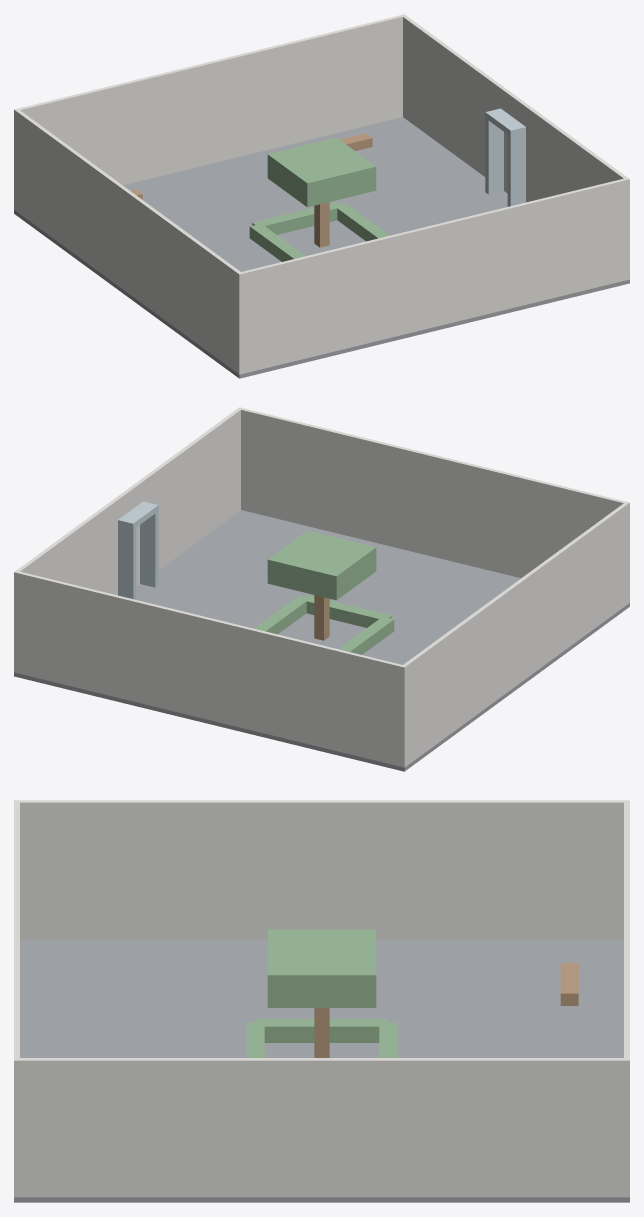
Rendered from atrium.glb.
3 views of the same model, one above another, from view 1: azimuth 30°, elevation 25°; view 2: azimuth 150°, elevation 25°; view 3: azimuth 270°, elevation 25° (orthographic). The views are drawn at different scales.
Visible parts, largest first — view 1: Wall_South, Wall_North, Floor, Wall_West, Wall_East, Tree_Canopy, Arch_East_Right, Arch_East_Left, Planter_N, Planter_W, Planter_E, Tree_Trunk (+1 smaller); view 2: Wall_North, Wall_South, Floor, Wall_West, Wall_East, Tree_Canopy, Arch_East_Left, Arch_East_Right, Planter_S, Planter_W, Planter_E, Tree_Trunk (+1 smaller); view 3: Wall_East, Wall_West, Floor, Tree_Canopy, Planter_W, Wall_North, Wall_South, Bench_1, Tree_Trunk, Planter_N, Planter_S.
Boxes of the visible parts, <box> form: Wall_South: <box>237,177,629,374</box>; Wall_North: <box>14,14,406,210</box>; Floor: <box>14,117,629,378</box>; Wall_West: <box>14,108,243,374</box>; Wall_East: <box>402,14,629,202</box>; Tree_Canopy: <box>267,137,376,207</box>; Arch_East_Right: <box>507,124,525,206</box>; Arch_East_Left: <box>485,108,503,194</box>; Planter_N: <box>252,202,342,234</box>; Planter_W: <box>249,223,305,261</box>; Planter_E: <box>337,203,389,241</box>; Tree_Trunk: <box>314,202,329,247</box>; Wall_North: <box>14,570,406,767</box>; Wall_South: <box>237,407,629,602</box>; Floor: <box>14,510,629,771</box>; Wall_West: <box>400,501,629,767</box>; Wall_East: <box>14,407,242,672</box>; Tree_Canopy: <box>267,530,376,600</box>; Arch_East_Left: <box>118,517,136,599</box>; Arch_East_Right: <box>140,501,158,587</box>; Planter_S: <box>301,595,391,627</box>; Planter_W: <box>338,616,394,654</box>; Planter_E: <box>254,596,306,634</box>; Tree_Trunk: <box>314,595,329,640</box>; Wall_East: <box>14,1058,629,1197</box>; Wall_West: <box>14,800,629,939</box>; Floor: <box>14,939,629,1202</box>; Tree_Canopy: <box>267,929,376,1007</box>; Planter_W: <box>255,1019,388,1042</box>; Wall_North: <box>624,800,629,1197</box>; Wall_South: <box>14,800,19,1197</box>; Bench_1: <box>560,963,578,1005</box>; Tree_Trunk: <box>314,1008,329,1057</box>; Planter_N: <box>379,1022,397,1057</box>; Planter_S: <box>246,1022,264,1057</box>.
Size of the model in its own units: 20.4 by 5.2 by 20.4.
